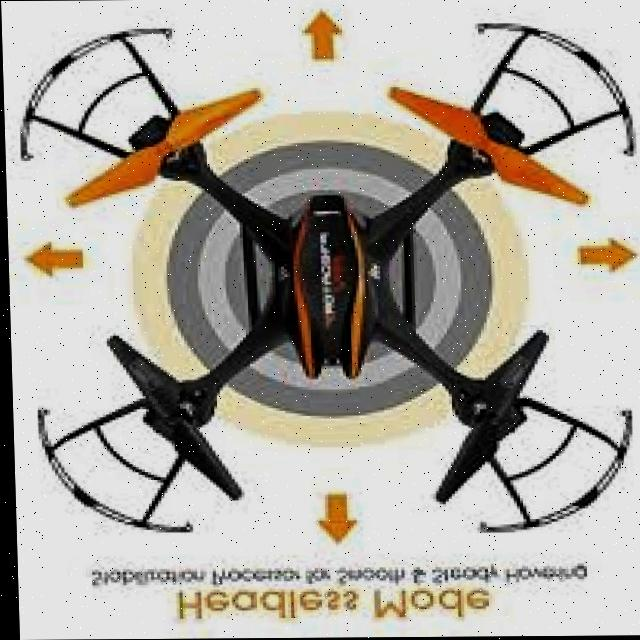drone: (1, 19, 640, 541)
